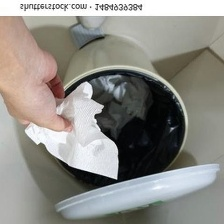tissue: (19, 77, 124, 185)
